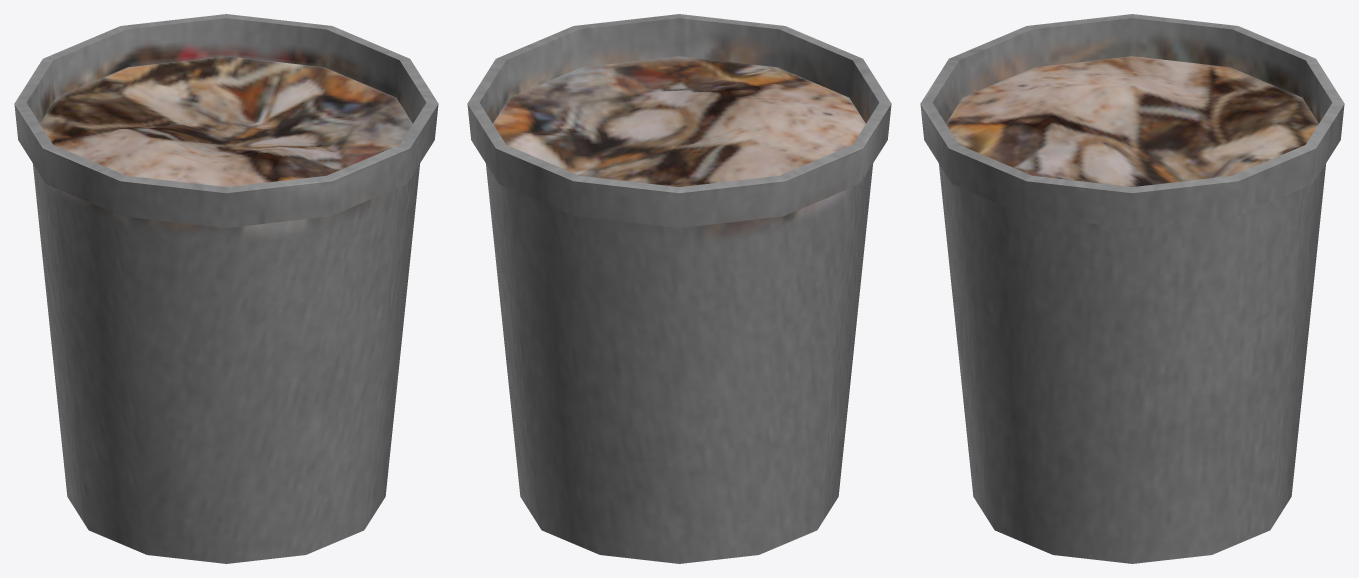
Rendered from Garbage_Can.fbx.
The picture shows the model from 3 angles, left to right: view 1: azimuth 30°, elevation 25°; view 2: azimuth 150°, elevation 25°; view 3: azimuth 270°, elevation 25°; orthographic projection.
Parts seen in each view (by area): view 1: Garbage Can; view 2: Garbage Can; view 3: Garbage Can.
Boxes of the visible parts, bbox=[...] form: Garbage Can: bbox=[14, 14, 438, 563]; Garbage Can: bbox=[467, 14, 891, 563]; Garbage Can: bbox=[920, 14, 1344, 563].
Size of the model in its own units: 65.79 by 67.44 by 65.79.
